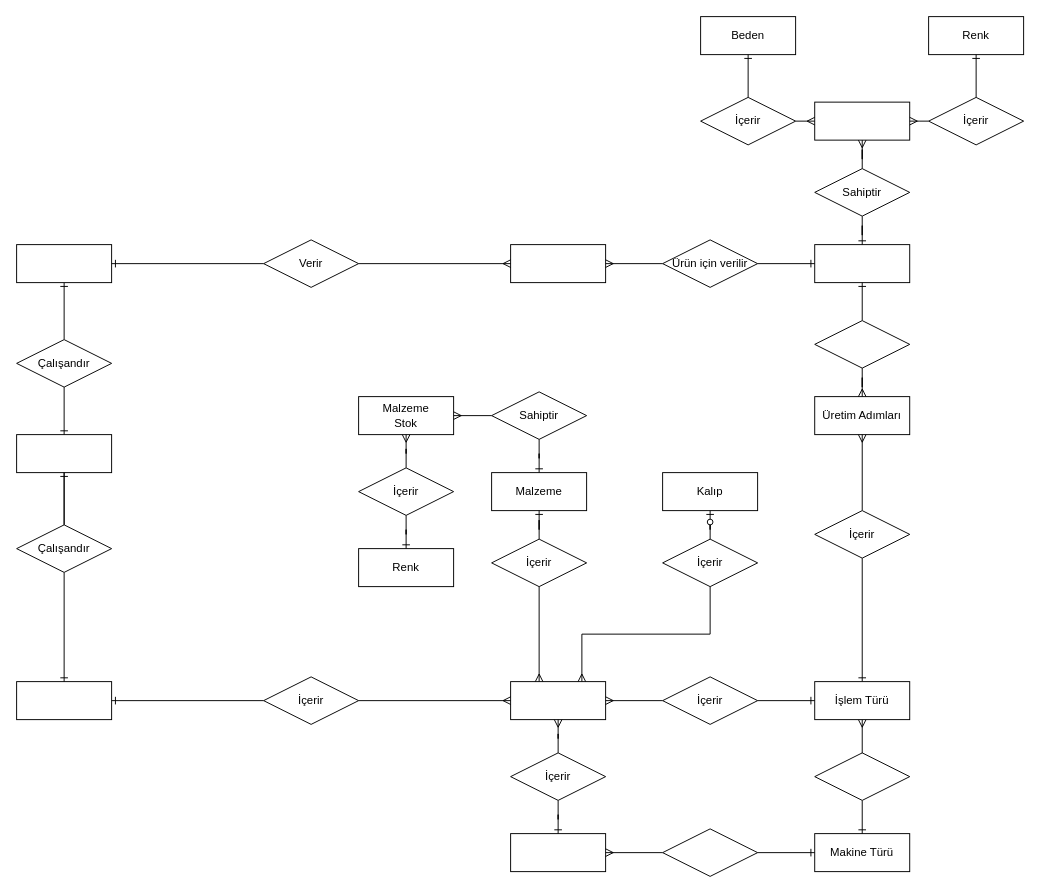
This 1040x893 diagram has some shape labels left out. Each missing label, with the box of its shape:
İşlem Kaydı: (510, 681, 606, 720)
İşçi: (16, 681, 112, 720)
Makine: (510, 833, 606, 872)
Türü Vardır: (662, 828, 758, 876)
Vardır: (814, 320, 910, 368)
Yapabilir: (814, 752, 910, 800)
Yönetici: (16, 244, 112, 283)
Çalışan: (16, 434, 112, 473)
Üretim Emri: (510, 244, 606, 283)
Ürün: (814, 244, 910, 283)
Ürün Stok: (814, 101, 910, 140)
